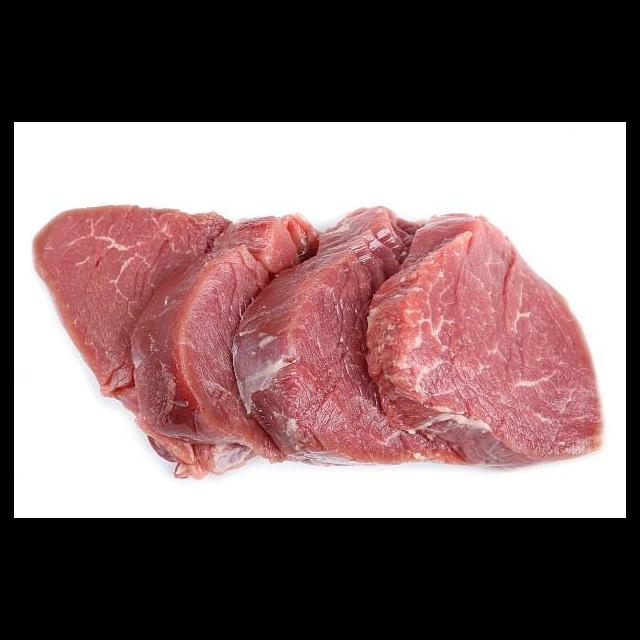beef: (33, 204, 606, 483)
